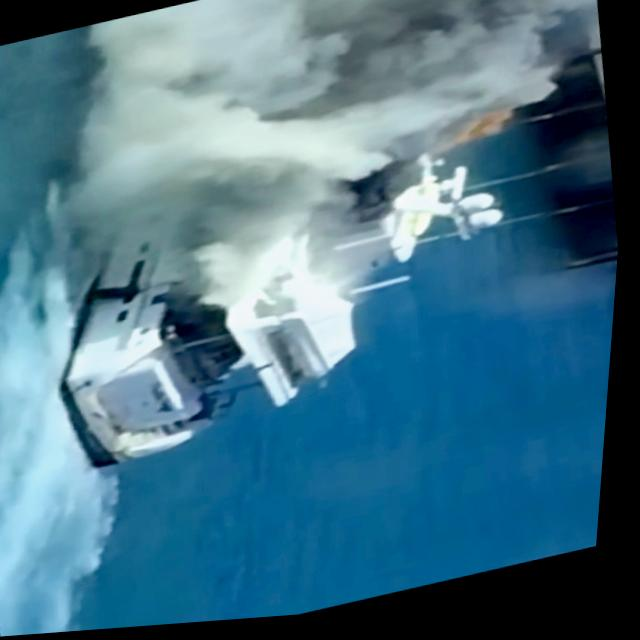smoke: (66, 0, 623, 265)
